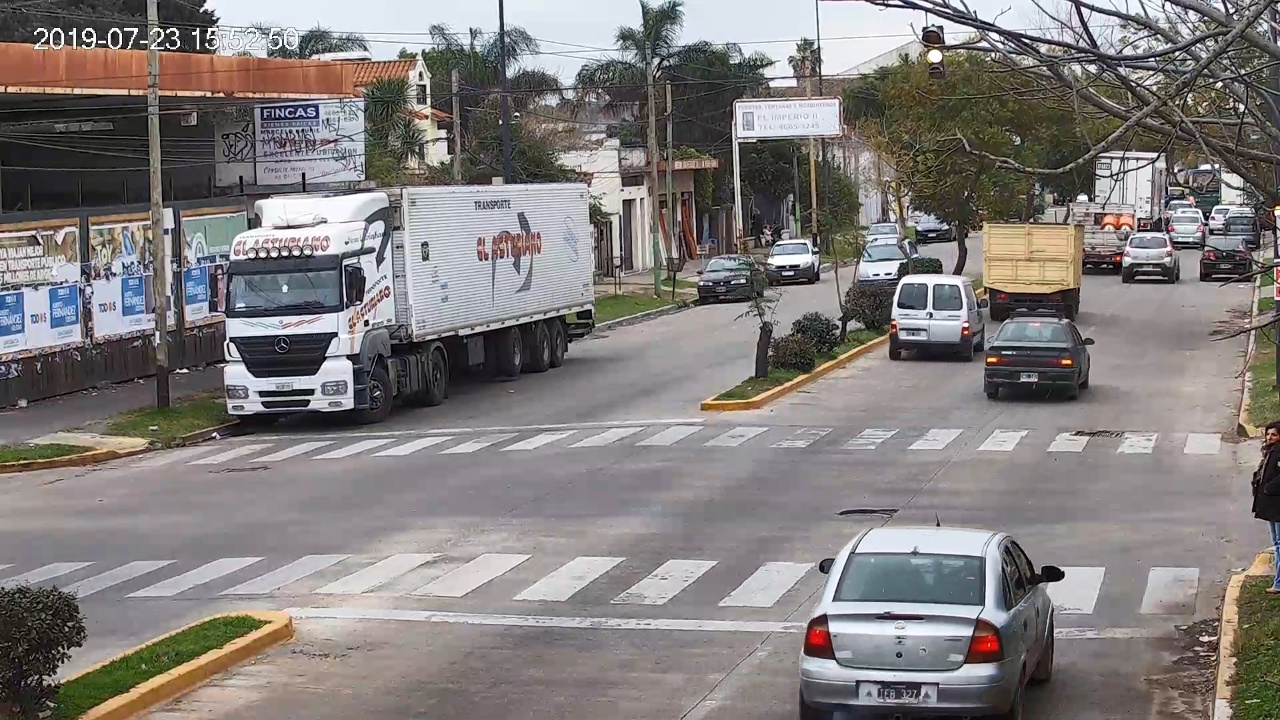car: (801, 528, 1066, 720), (983, 312, 1095, 400), (889, 273, 988, 362), (1122, 232, 1180, 284)
traffic light: (923, 27, 945, 79)
